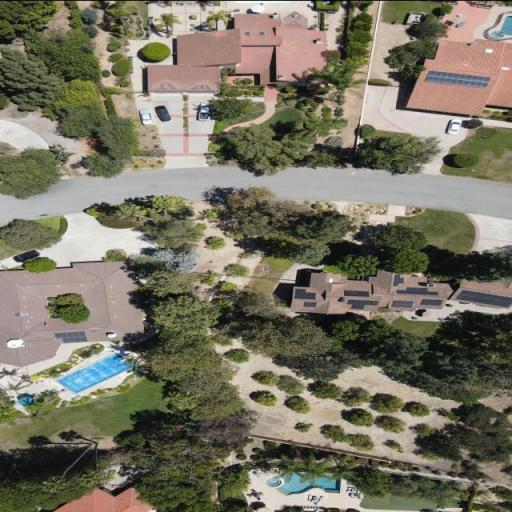solar-panel: (425, 70, 491, 88), (455, 289, 512, 307), (54, 331, 88, 342), (396, 287, 438, 295), (347, 299, 378, 309), (294, 288, 316, 299), (344, 289, 369, 296), (420, 298, 443, 305), (392, 300, 414, 307), (393, 274, 404, 286), (303, 301, 317, 307)
